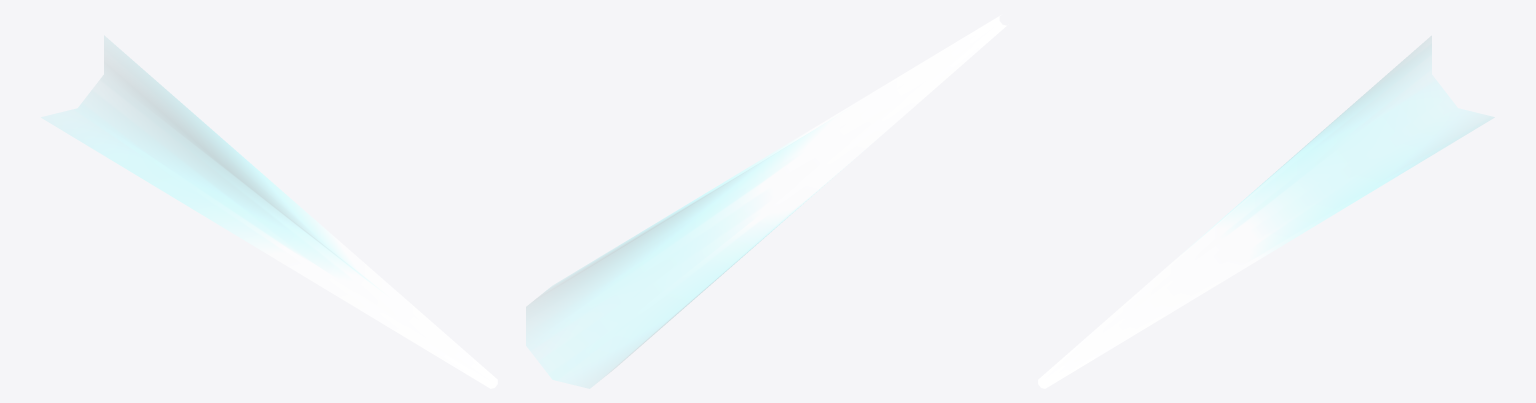
The model's file is totem_light_beam.glb.
3 views of the same model, side by side, from view 1: azimuth 30°, elevation 25°; view 2: azimuth 150°, elevation 25°; view 3: azimuth 330°, elevation 25° (orthographic).
Visible parts, largest first — view 1: small_light_beam; view 2: small_light_beam; view 3: small_light_beam.
Boxes of the visible parts, <box> form: small_light_beam: <box>45,39,497,388</box>; small_light_beam: <box>529,15,1008,385</box>; small_light_beam: <box>1038,39,1493,388</box>.
Size of the model in its own units: 9.59 by 9.58 by 80.
Materials: 1 (1 with a texture image).
